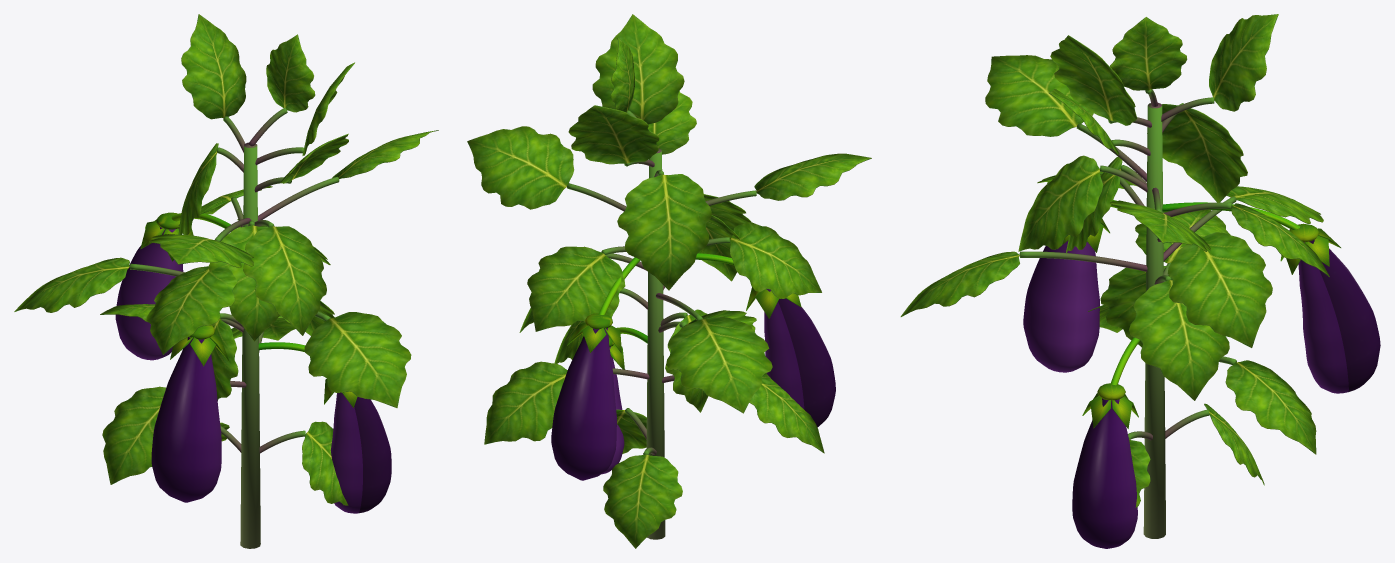
The model's file is NP_Eggplant_Ready.fbx.
The picture shows the model from 3 angles, left to right: view 1: azimuth 30°, elevation 25°; view 2: azimuth 150°, elevation 25°; view 3: azimuth 270°, elevation 25°; orthographic projection. The views are drawn at different scales.
Visible parts, largest first — view 1: NP_Eggplant_Ready; view 2: NP_Eggplant_Ready; view 3: NP_Eggplant_Ready.
Part boxes in pixels (x1=…): NP_Eggplant_Ready: x1=14, y1=14, x2=438, y2=548; NP_Eggplant_Ready: x1=467, y1=14, x2=871, y2=548; NP_Eggplant_Ready: x1=900, y1=14, x2=1380, y2=548.
Bounding box in the file's own units: 94.73 × 128 × 103.
